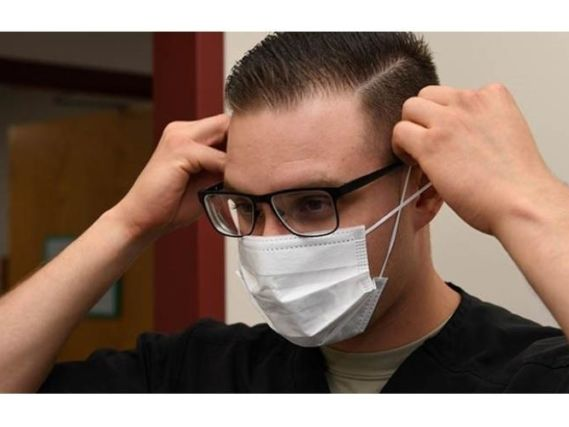with_mask: (223, 92, 409, 344)
